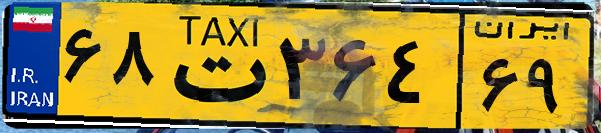3: (270, 28, 330, 110)
4: (385, 28, 445, 110)
6: (330, 28, 385, 110), (57, 26, 110, 100), (475, 38, 525, 113)
8: (110, 28, 158, 98)
9: (525, 38, 570, 115)
ت: (158, 12, 270, 120)
